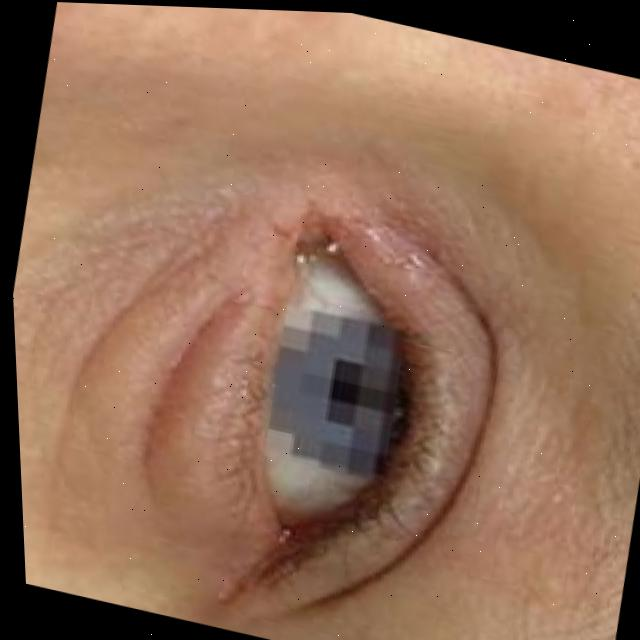Eczema: (277, 172, 446, 278)
